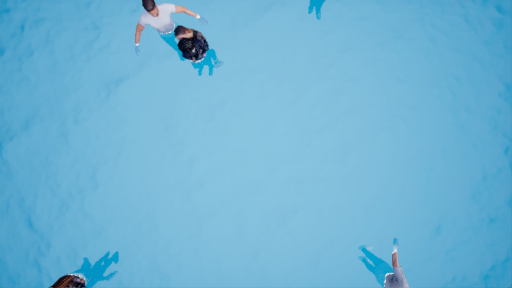person: (126, 1, 220, 79), (351, 241, 410, 288)
